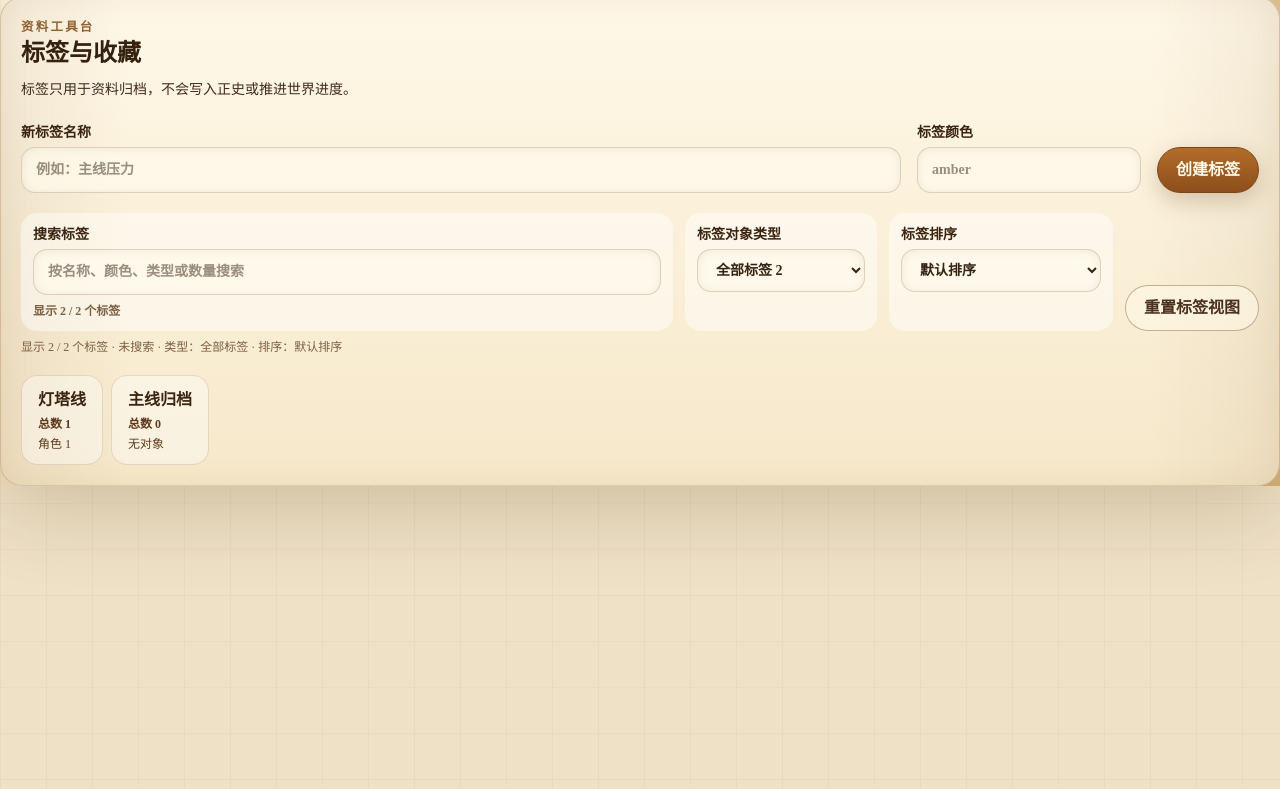
Scenario: WorldTagsPanel › searches selected tag objects by text
Expected: the text "灯塔线" is shown, [38,388,86,412]
Click the button with aria-label "查看 灯塔线" at [62, 420], box [21,375,103,465]
(page scrolled)
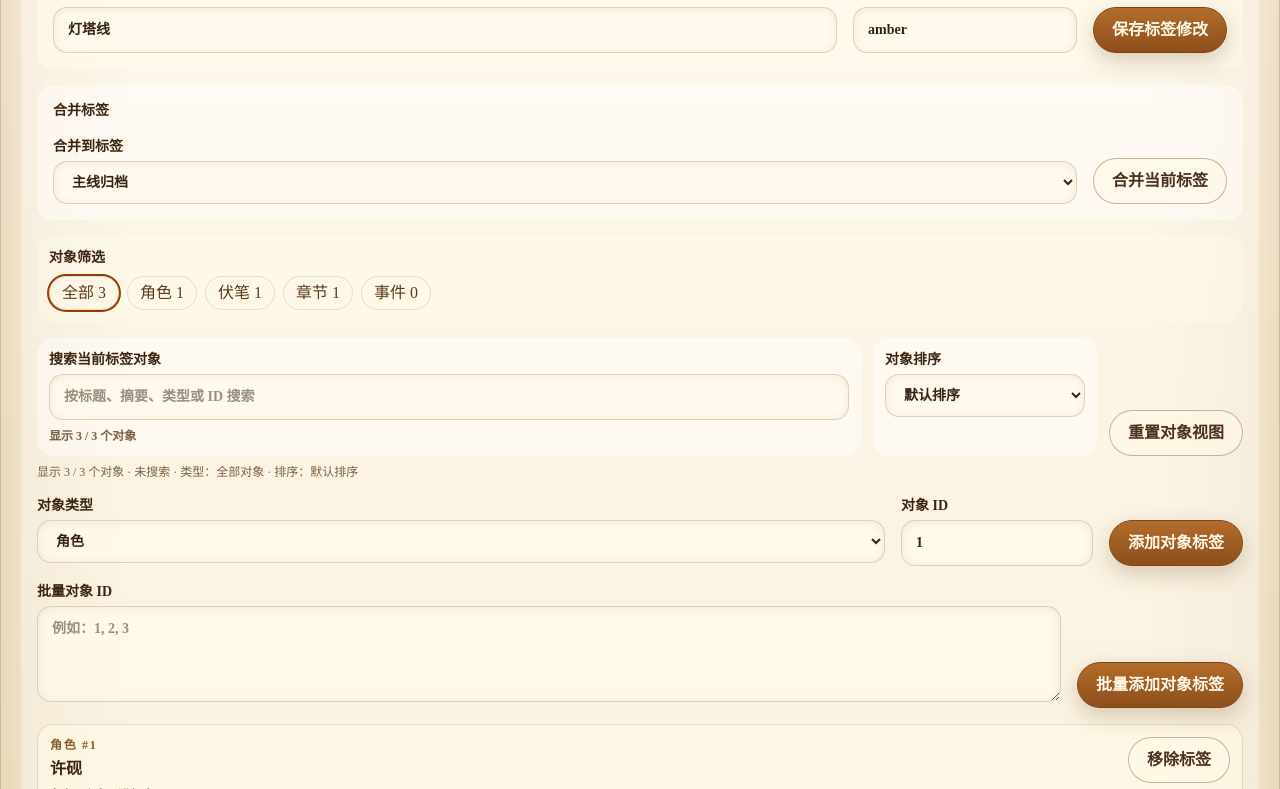
Now the heading "许砚" is shown, box [50,760,82,777]
Type "未来" into the field labelled "搜索当前标签对象" at [449, 397], box [49,374,849,420]
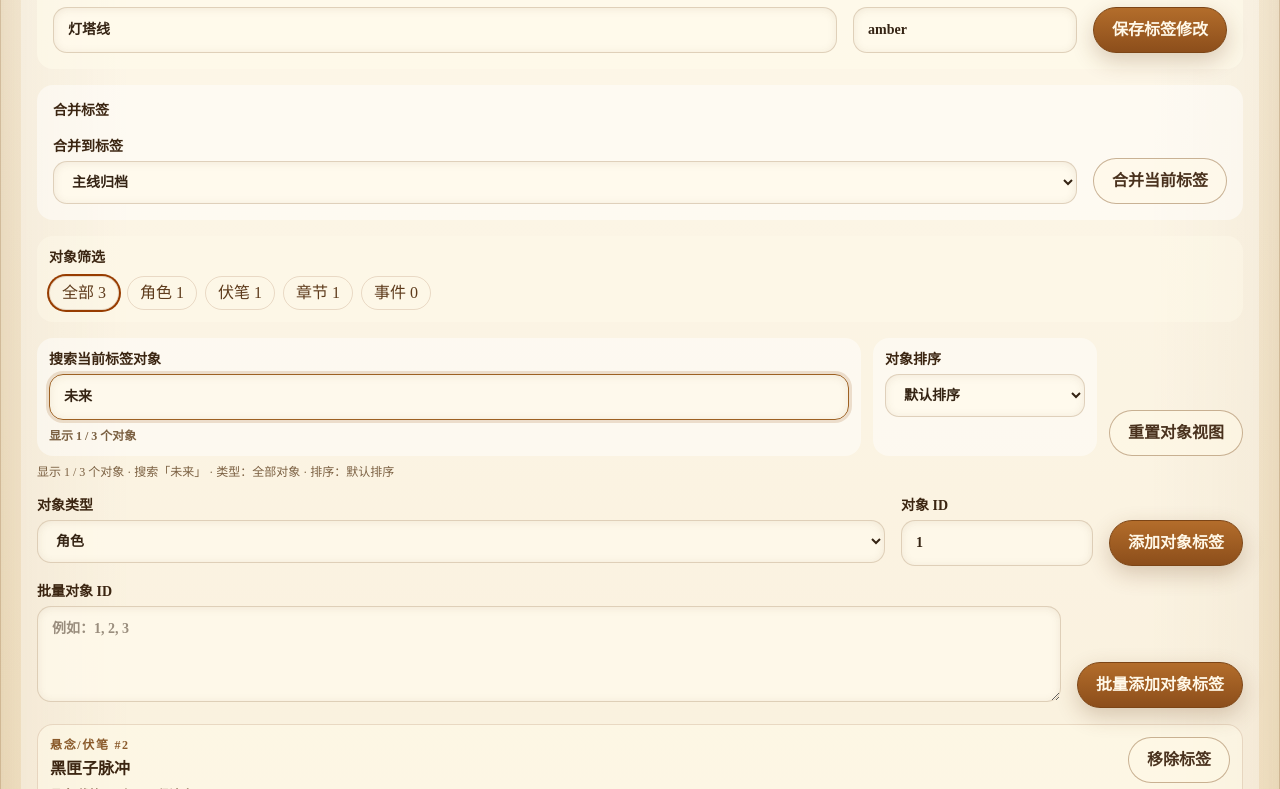
Now the heading "黑匣子脉冲" is shown, box [50,757,130,781]
Now the heading "许砚" is gone
Now the text "显示 1 / 3 个对象" is shown, box [49,429,136,443]
